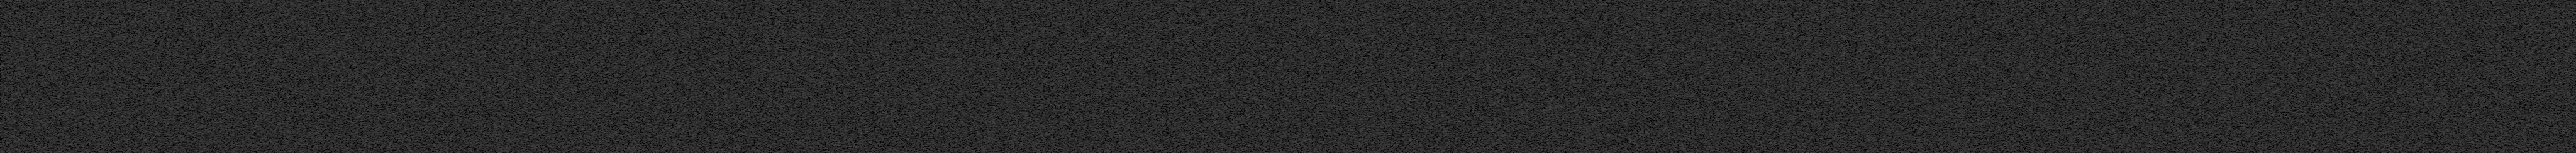wv_cw: (1842, 0, 1847, 153), (1902, 0, 1906, 153)
wv_lsb: (1906, 0, 1909, 153), (1901, 0, 1904, 127), (1511, 49, 1513, 118), (1901, 127, 1904, 153), (1511, 120, 1513, 148), (1511, 12, 1513, 26), (1511, 0, 1513, 10), (1511, 33, 1513, 41), (1511, 26, 1513, 33), (1511, 148, 1513, 153), (1511, 46, 1513, 49), (1511, 43, 1513, 44)
wv_usb: (1909, 18, 1912, 153), (1909, 12, 1912, 16)
wv_wbfm: (1199, 0, 1252, 153), (1387, 0, 1428, 153), (908, 0, 940, 153), (908, 0, 912, 90), (938, 0, 941, 89), (938, 92, 941, 153)
